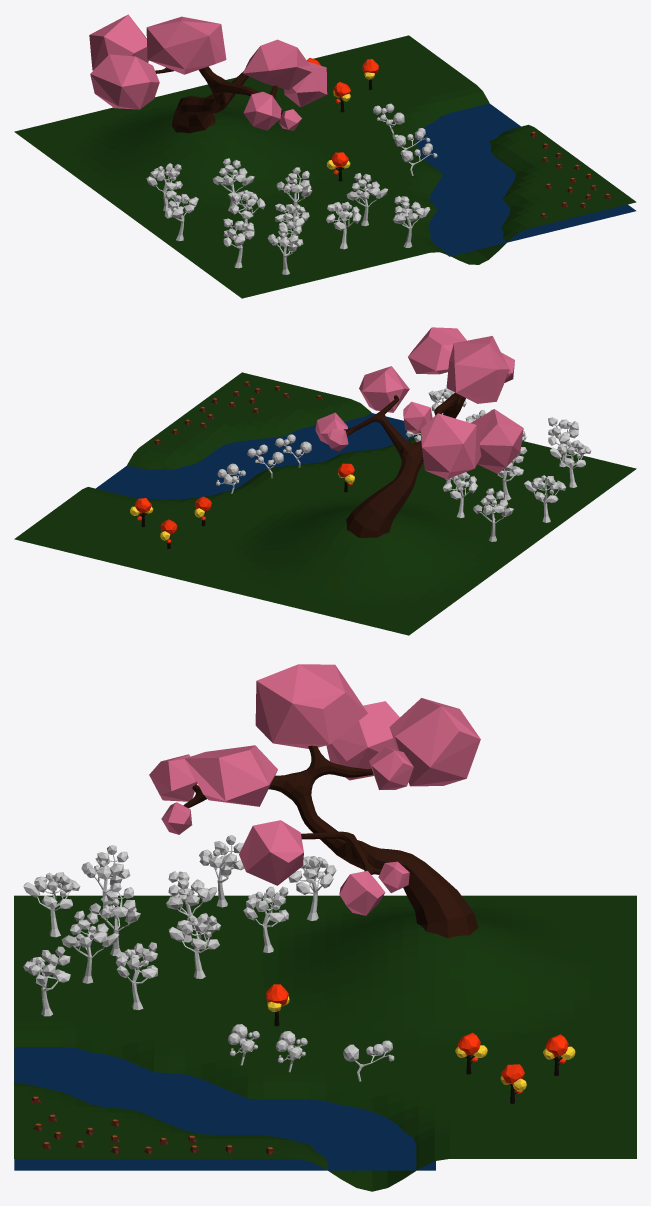
File: landscape.obj
The picture shows the model from 3 angles, top to bottom: view 1: azimuth 30°, elevation 25°; view 2: azimuth 150°, elevation 25°; view 3: azimuth 270°, elevation 25°; orthographic projection. The views are drawn at different scales.
Parts seen in each view (by area): view 1: Grid, Plane, tree_leaves.002_0, tree_leaves.000_0, tree_0, tree_leaves.009_0, tree_leaves.001_0, tree_leaves.006_0, tree_leaves.007_0, Tree00.006, Tree00.007, Tree00.003 (+9 smaller); view 2: Grid, Plane, tree_0, tree_leaves.002_0, tree_leaves.001_0, tree_leaves.000_0, tree_leaves.009_0, tree_leaves.006_0, Tree00.004, Tree00.008, Tree00.009, tree_leaves.003_0 (+3 smaller); view 3: Grid, Plane, tree_0, tree_leaves.002_0, tree_leaves.001_0, tree_leaves.009_0, tree_leaves.006_0, tree_leaves.000_0, tree_leaves.007_0, Tree00.003, Tree00.005, Tree00.002 (+10 smaller).
Part boxes in pixels (<box>): Grid: <box>14,35,636,298</box>; Plane: <box>416,103,635,256</box>; tree_leaves.002_0: <box>146,16,226,74</box>; tree_leaves.000_0: <box>90,54,159,109</box>; tree_0: <box>155,66,282,133</box>; tree_leaves.009_0: <box>243,39,311,90</box>; tree_leaves.001_0: <box>89,14,148,70</box>; tree_leaves.006_0: <box>284,62,327,107</box>; tree_leaves.007_0: <box>243,91,281,130</box>; Tree00.006: <box>346,173,387,226</box>; Tree00.007: <box>393,196,430,247</box>; Tree00.003: <box>326,201,361,249</box>; Grid: <box>14,372,636,635</box>; Plane: <box>96,413,418,499</box>; tree_0: <box>344,392,465,537</box>; tree_leaves.002_0: <box>446,336,509,403</box>; tree_leaves.001_0: <box>421,413,481,479</box>; tree_leaves.000_0: <box>471,409,523,473</box>; tree_leaves.009_0: <box>408,327,466,374</box>; tree_leaves.006_0: <box>359,366,409,412</box>; Tree00.004: <box>550,440,591,487</box>; Tree00.008: <box>473,488,513,541</box>; Tree00.009: <box>524,475,565,522</box>; tree_leaves.003_0: <box>403,401,432,433</box>; Grid: <box>14,895,636,1191</box>; Plane: <box>14,1047,435,1170</box>; tree_0: <box>183,745,478,938</box>; tree_leaves.002_0: <box>255,664,367,748</box>; tree_leaves.001_0: <box>389,698,480,786</box>; tree_leaves.009_0: <box>185,745,277,806</box>; tree_leaves.006_0: <box>239,820,303,885</box>; tree_leaves.000_0: <box>326,701,399,780</box>; tree_leaves.007_0: <box>149,754,197,801</box>; Tree00.003: <box>61,910,119,983</box>; Tree00.005: <box>23,872,80,937</box>; Tree00.002: <box>168,913,220,978</box>.
Size of the model in its own units: 6.18 by 3.1 by 5.97.
